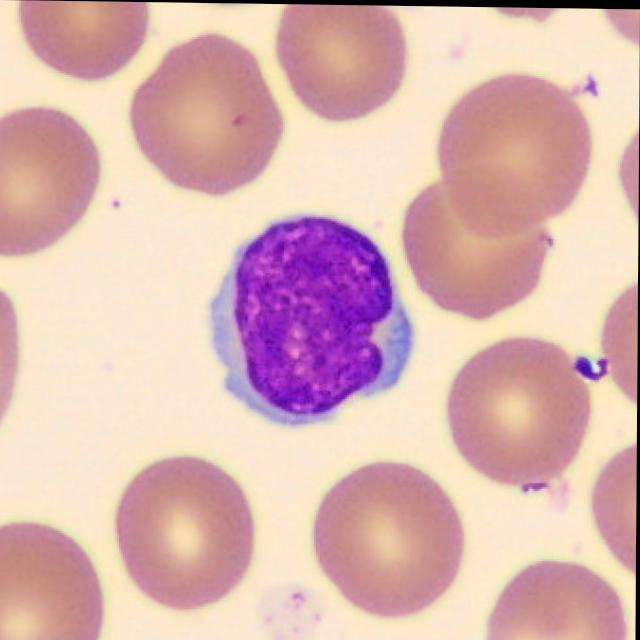Linfocito: (210, 216, 415, 426)
